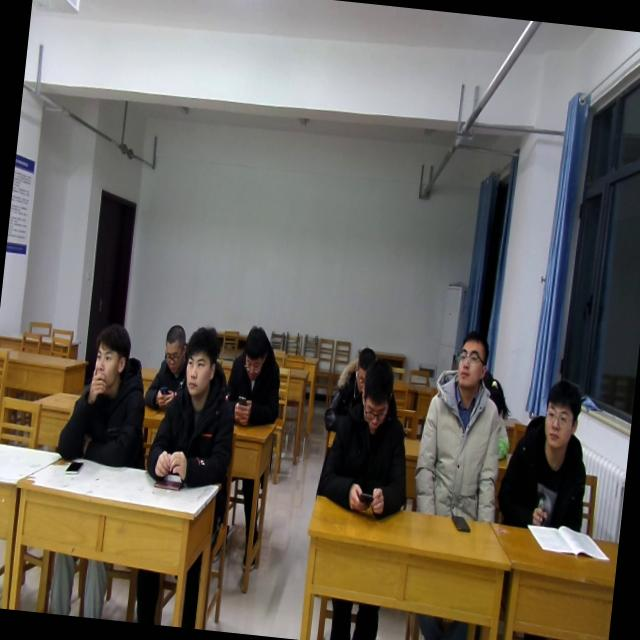bow: (322, 342, 380, 438), (143, 319, 193, 415)
down: (352, 348, 395, 438), (237, 318, 273, 382), (156, 319, 190, 376), (348, 340, 377, 391)
lookup: (534, 374, 586, 462), (178, 317, 225, 404), (88, 318, 136, 390), (451, 320, 494, 390)
sit: (408, 319, 516, 532), (143, 318, 245, 496), (314, 354, 422, 522), (493, 372, 600, 534), (54, 317, 156, 470), (222, 320, 288, 431)
